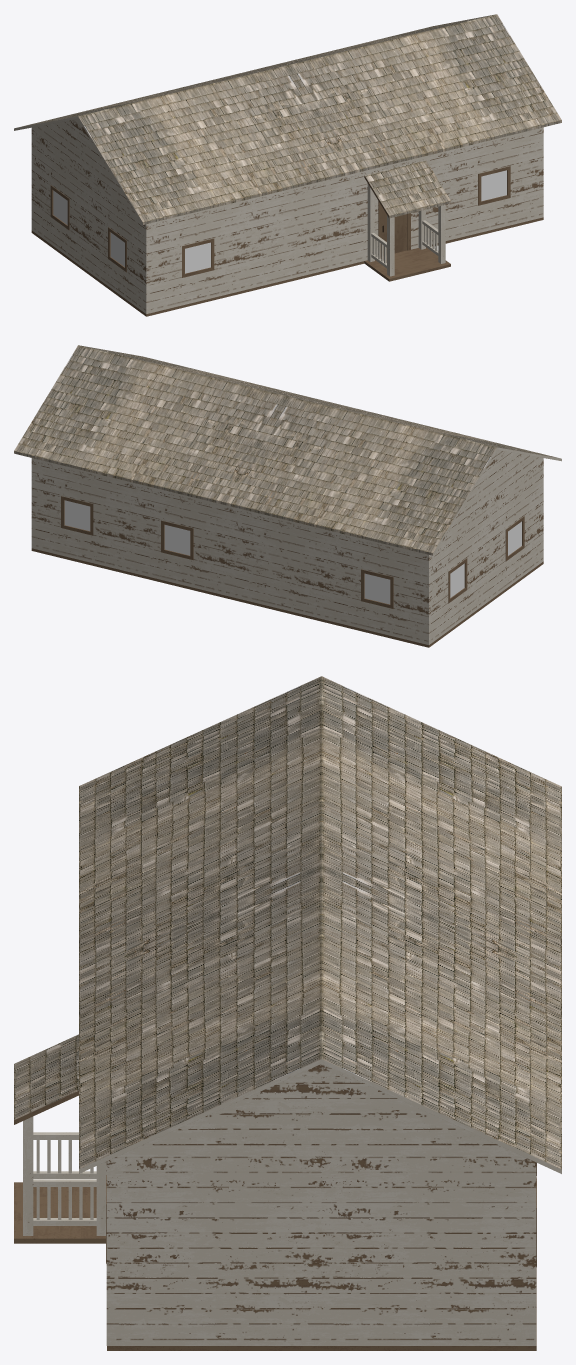
Rendered from FarmHause04.fbx.
3 renders of one model, top to bottom at view 1: azimuth 30°, elevation 25°; view 2: azimuth 150°, elevation 25°; view 3: azimuth 270°, elevation 25°, orthographic. The views are drawn at different scales.
Parts seen in each view (by area): view 1: FermHauseС.001, FermHausС.008, FermHaus.009, FermHauseС.002, Doors.001, steklo.015, steklo.019; view 2: FermHauseС.001, FermHausС.008, FermHauseС.002, steklo.017, steklo.018, steklo.016; view 3: FermHauseС.001, FermHausС.008, FermHaus.009, FermHauseС.002.
Part boxes in pixels (box(x1,y1,x2,y2)): FermHauseС.001: box(14, 14, 561, 224); FermHausС.008: box(31, 119, 543, 313); FermHaus.009: box(364, 160, 450, 281); FermHauseС.002: box(31, 217, 543, 316); Doors.001: box(381, 206, 407, 255); steklo.015: box(185, 242, 210, 273); steklo.019: box(481, 170, 506, 201); FermHauseС.001: box(14, 345, 561, 555); FermHausС.008: box(31, 450, 543, 644); FermHauseС.002: box(31, 548, 543, 647); steklo.017: box(164, 525, 190, 555); steklo.018: box(64, 500, 90, 531); steklo.016: box(364, 573, 390, 604); FermHauseС.001: box(79, 676, 561, 1173); FermHausС.008: box(106, 1064, 536, 1345); FermHaus.009: box(14, 1034, 106, 1243); FermHauseС.002: box(107, 1176, 536, 1350).
Bounding box in the file's own units: 1687 × 620 × 1020.
